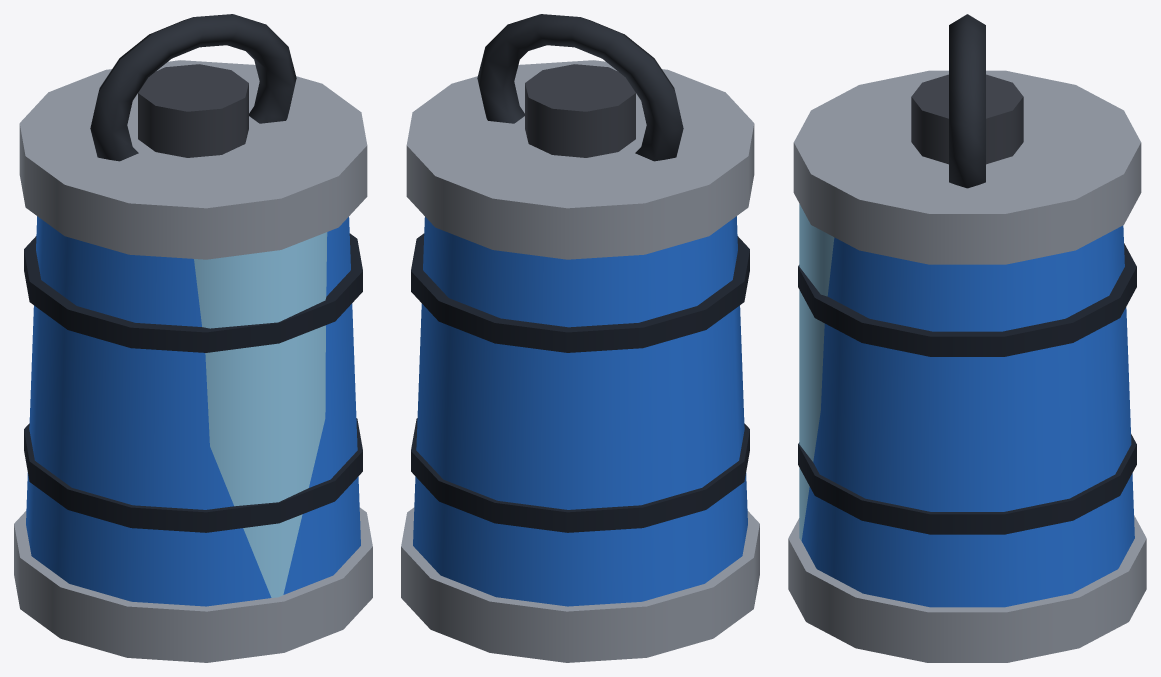
The model's file is shieldkeg.glb.
3 renders of one model, left to right at view 1: azimuth 30°, elevation 25°; view 2: azimuth 150°, elevation 25°; view 3: azimuth 270°, elevation 25°, orthographic.
Visible parts, largest first — view 1: ShieldKeg; view 2: ShieldKeg; view 3: ShieldKeg.
Part boxes in pixels (left/top/right/bottom): ShieldKeg: left=14, top=14, right=372, bottom=662; ShieldKeg: left=401, top=14, right=759, bottom=662; ShieldKeg: left=788, top=14, right=1146, bottom=662.
Size of the model in its own units: 0.1248 by 0.2216 by 0.128.
